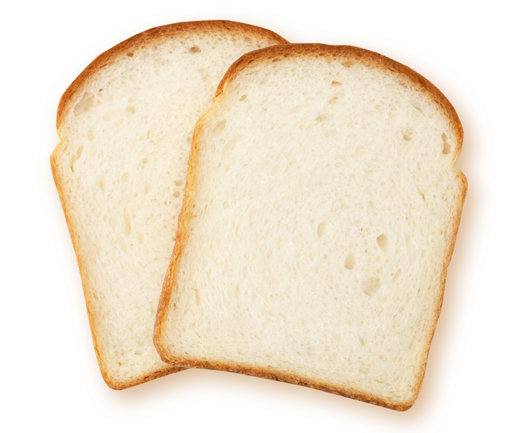slice of bread: (158, 52, 481, 382), (69, 24, 317, 393)
